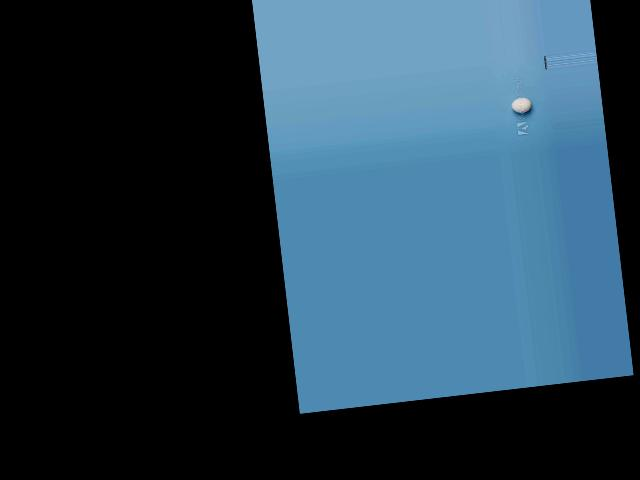egg: (511, 96, 532, 113)
